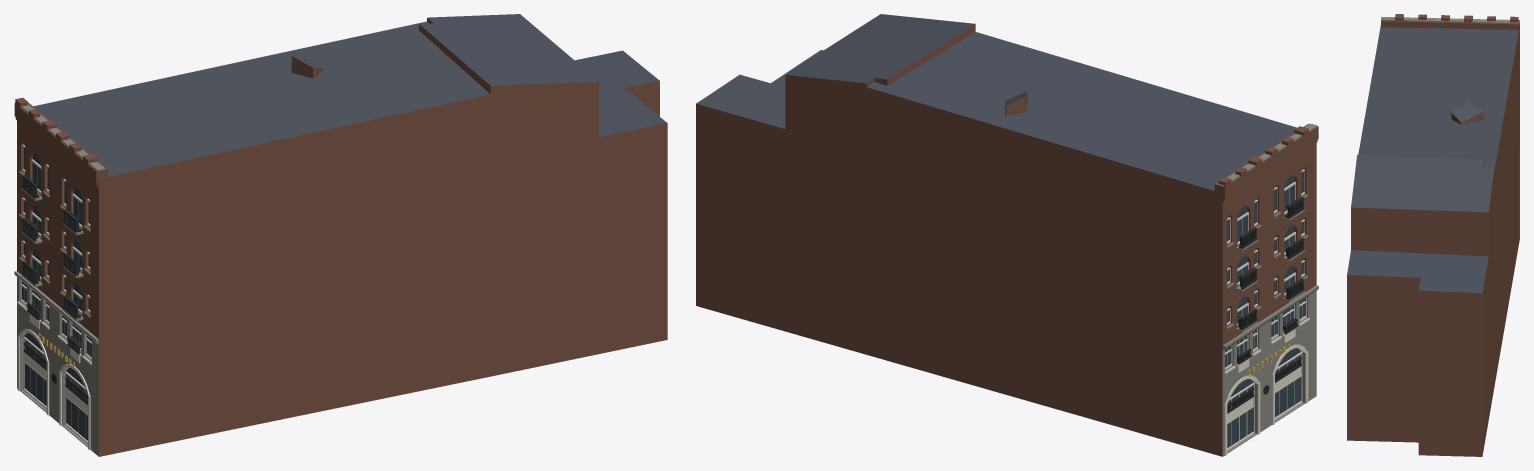
The model's file is cristofori.glb.
3 views of the same model, side by side, from view 1: azimuth 30°, elevation 25°; view 2: azimuth 150°, elevation 25°; view 3: azimuth 270°, elevation 25° (orthographic). The views are drawn at different scales.
Parts seen in each view (by area): view 1: cristofori; view 2: cristofori; view 3: cristofori.
Boxes of the visible parts, bbox=[...] form: cristofori: bbox=[14, 14, 667, 456]; cristofori: bbox=[696, 14, 1318, 456]; cristofori: bbox=[1347, 14, 1519, 456].
Size of the model in its own units: 43.45 by 20.77 by 14.28.
